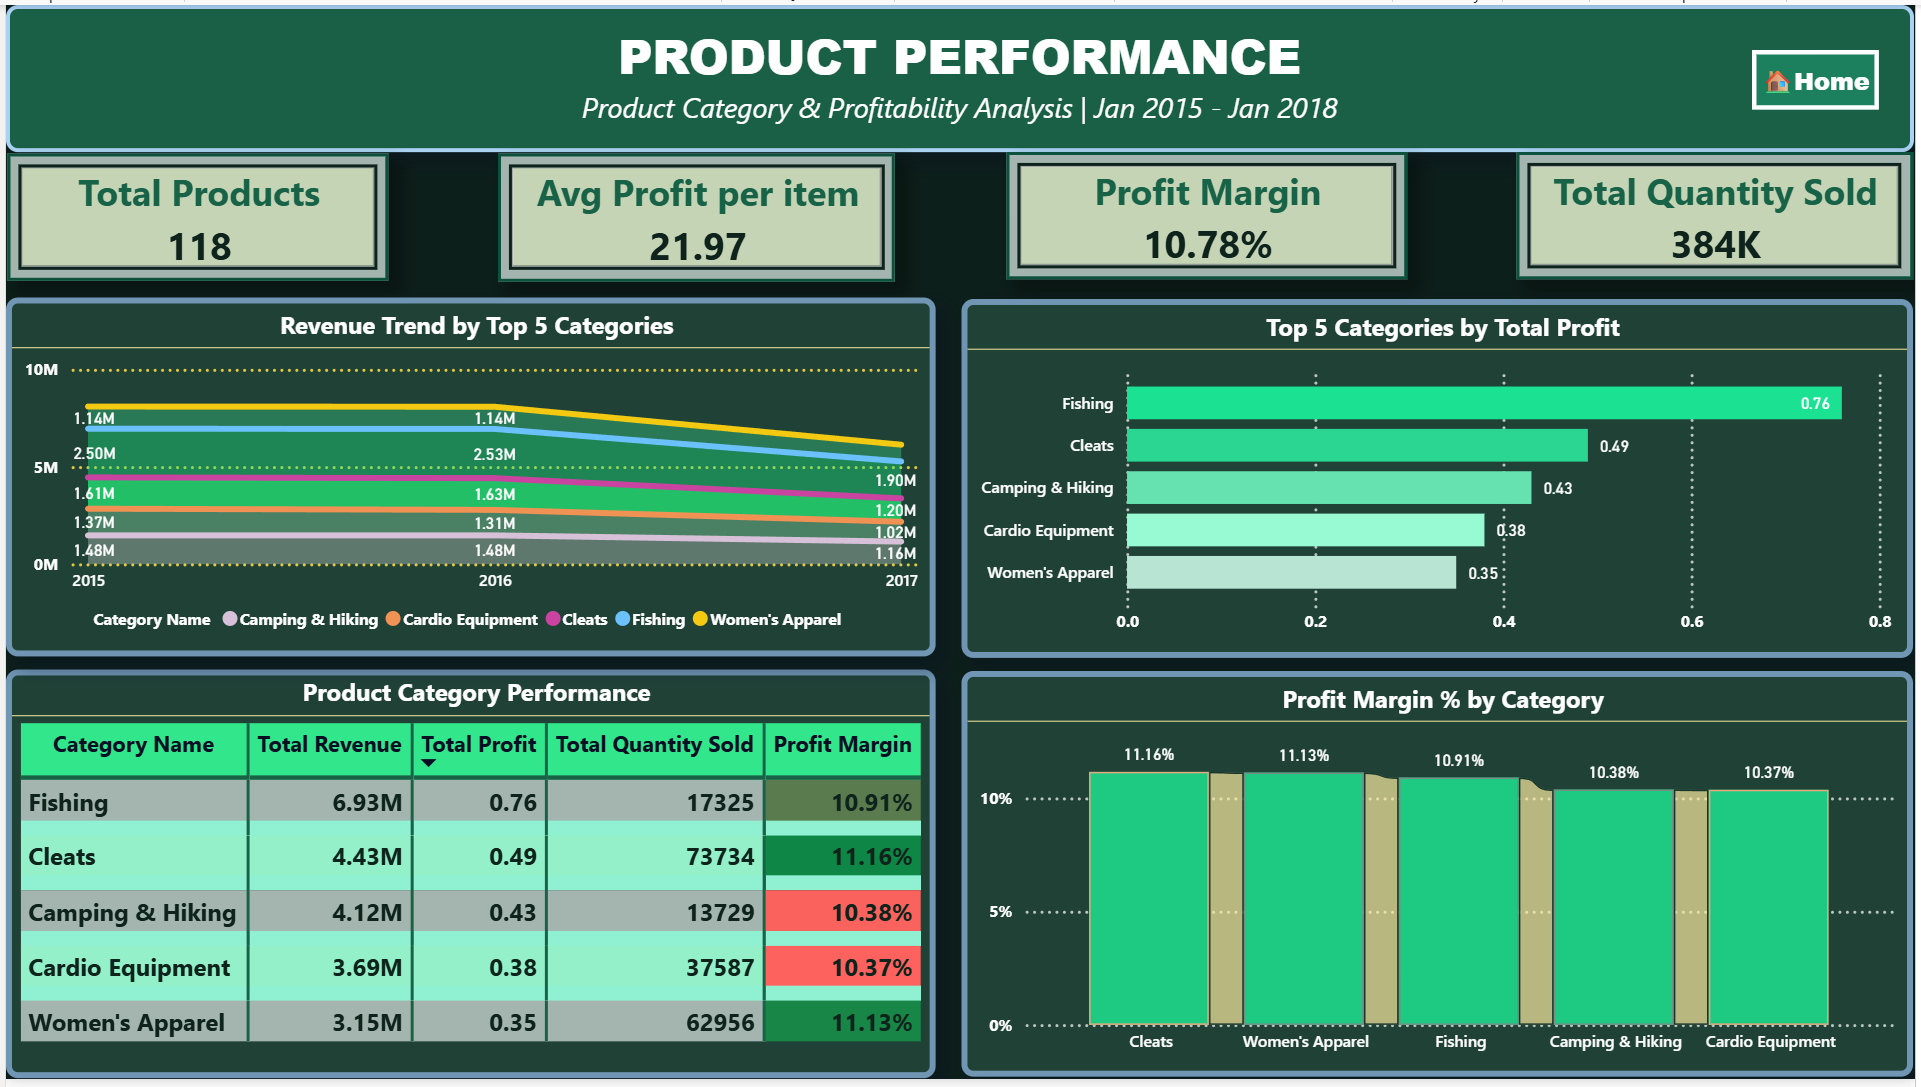

The dashboard page shown, as its layout file describes it:
{"tool":"powerbi","page":{"name":"Product Performance","canvas":[1280,720],"ordinal":3},"visuals":[{"type":"textbox","box":[0,0,1279.3,98.6],"z":0},{"type":"cardVisual","fields":{"Data":["supply_chain_cleaned.Avg Profit"]},"box":[330.2,99.3,266.1,85.9],"z":1000},{"type":"cardVisual","fields":{"Data":["supply_chain_cleaned.Profit Margin %"]},"box":[670.5,98.3,268.7,85.6],"z":2000},{"type":"cardVisual","fields":{"Data":["supply_chain_cleaned.Total Products"]},"box":[0.9,99.2,255.1,85.6],"z":3000},{"type":"cardVisual","fields":{"Data":["supply_chain_cleaned.Total Quantity Sold"]},"box":[1013.3,98.3,265.9,85.6],"z":4000},{"type":"clusteredBarChart","title":"Top 5 Categories by Total Profit","fields":{"Category":["supply_chain_cleaned.Category Name"],"Y":["supply_chain_cleaned.Total Profit"]},"box":[640.2,197.5,637.8,240.4],"z":5000},{"type":"tableEx","title":"Product Category Performance","fields":{"Values":["supply_chain_cleaned.Category Name","supply_chain_cleaned.Total Revenue","supply_chain_cleaned.Total Profit","supply_chain_cleaned.Total Quantity Sold","supply_chain_cleaned.Profit Margin %"]},"box":[0,446,623,274],"z":6000},{"type":"columnChart","title":"Profit Margin % by Category","fields":{"Category":["supply_chain_cleaned.Category Name"],"Y":["supply_chain_cleaned.Profit Margin"]},"box":[640.2,446.4,637.8,272.3],"z":7000},{"type":"stackedAreaChart","title":"Revenue Trend by Top 5 Categories","fields":{"Category":["supply_chain_cleaned.Order Year"],"Y":["supply_chain_cleaned.Total Revenue"],"Series":["supply_chain_cleaned.Category Name"]},"box":[0,196.3,623.2,240.5],"z":8000},{"type":"actionButton","box":[1171,30,85.1,40],"z":9000}]}

Visuals, with their boxes in screenshot pixels (x1, y1, x2, y2), scaled from the page's 1280x720 canvas onto the 1921x1087 screenshot:
textbox: detection(0, 0, 1920, 149)
cardVisual - supply_chain_cleaned.Avg Profit: detection(496, 150, 895, 280)
cardVisual - supply_chain_cleaned.Profit Margin %: detection(1006, 148, 1410, 278)
cardVisual - supply_chain_cleaned.Total Products: detection(1, 150, 384, 279)
cardVisual - supply_chain_cleaned.Total Quantity Sold: detection(1521, 148, 1920, 278)
"Top 5 Categories by Total Profit" clusteredBarChart: detection(961, 298, 1918, 661)
"Product Category Performance" tableEx: detection(0, 673, 935, 1086)
"Profit Margin % by Category" columnChart: detection(961, 674, 1918, 1085)
"Revenue Trend by Top 5 Categories" stackedAreaChart: detection(0, 296, 935, 659)
actionButton: detection(1757, 45, 1885, 106)
